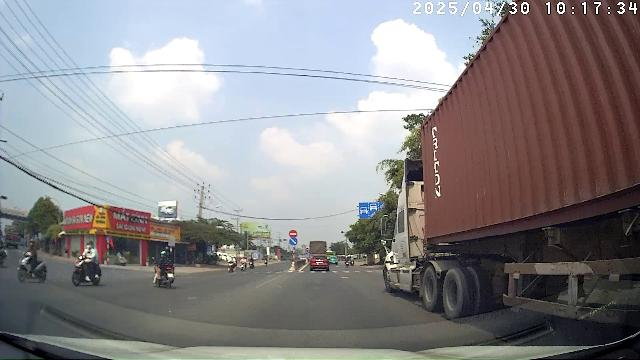102-cam-di-nguoc-chieu: (289, 229, 298, 237)
302a-huong-phai-di-vong-chuong-ngai-vat-1: (289, 237, 298, 245)
